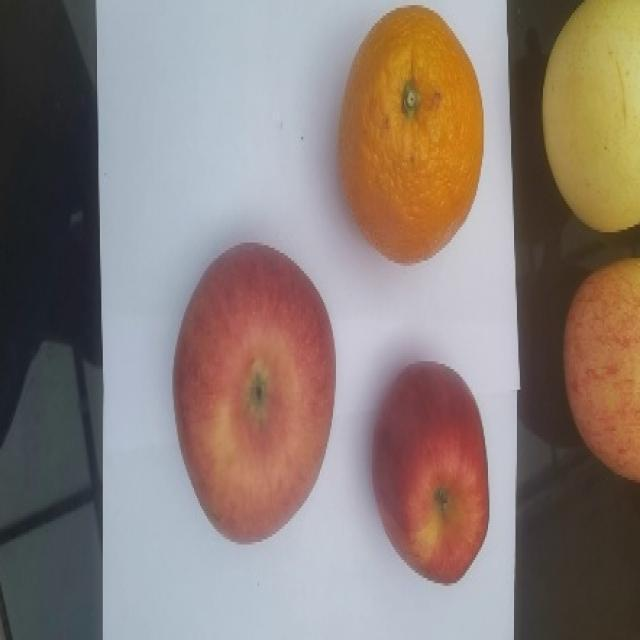Apple: (169, 235, 342, 548), (368, 359, 495, 588), (561, 258, 640, 494)
Orange: (335, 7, 491, 270)
